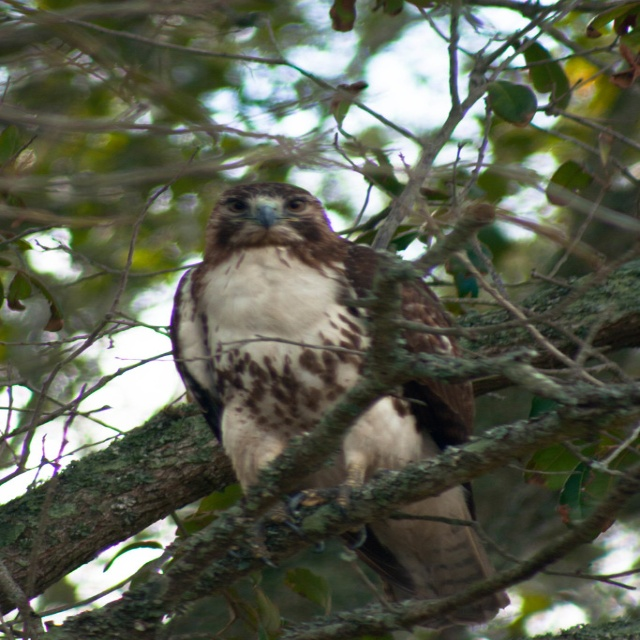Owl: (169, 181, 520, 635)
